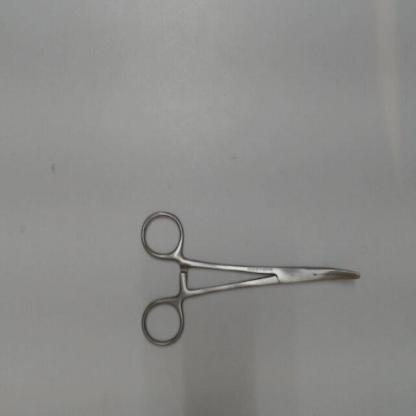Crile Artery Forceps: (136, 201, 369, 352)
